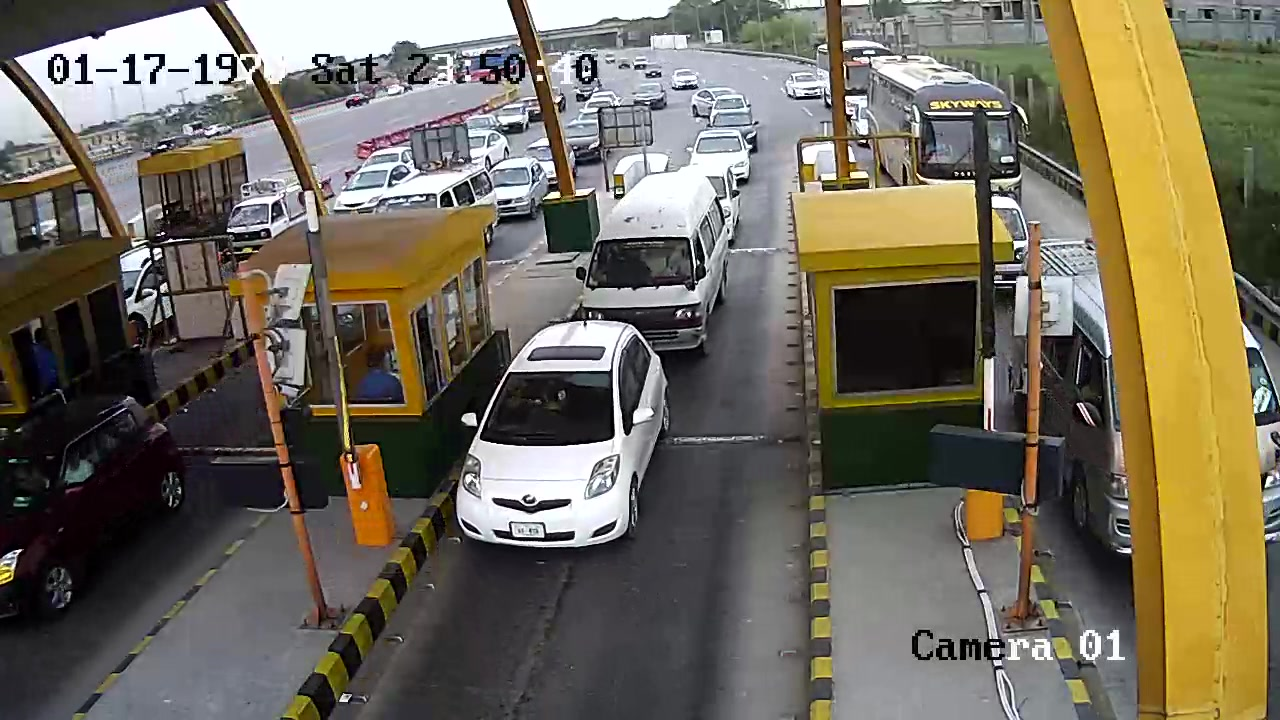F1: (450, 318, 678, 561)
